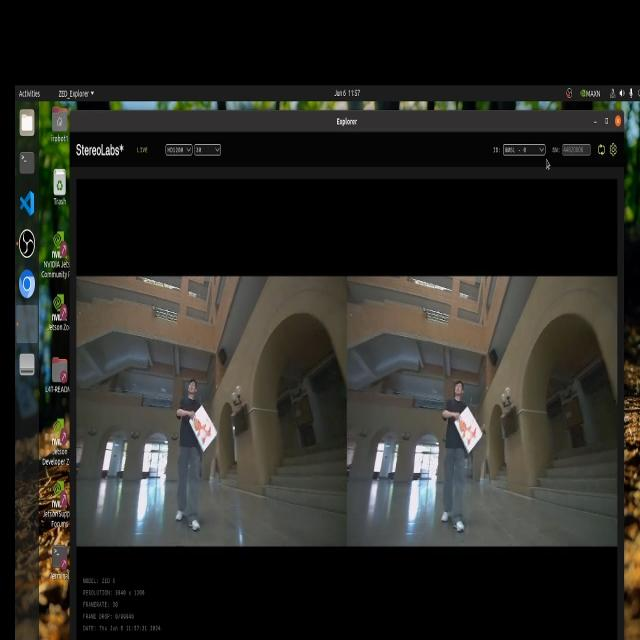red: (450, 409, 482, 451), (192, 404, 218, 455)
